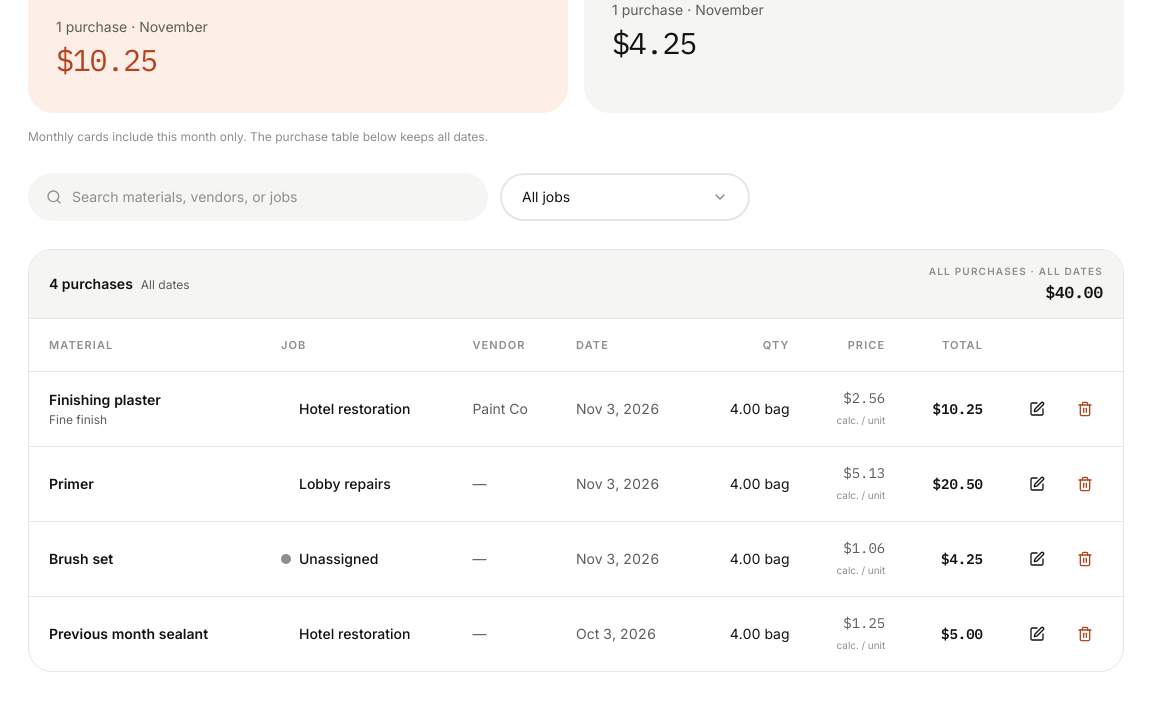
Test: Materials redesign › requires delete confirmation, supports cancel and leaves failed deletion recoverable
The width and height of the screenshot is (1152, 720).
(page scrolled)
Check: the row with test id "row-material-material-a" is shown, box x1=29 y1=371 x2=1123 y2=446
Click the button with test id "button-delete-material-material-a". click: (1085, 409)
box: x1=1063 y1=387 x2=1107 y2=431
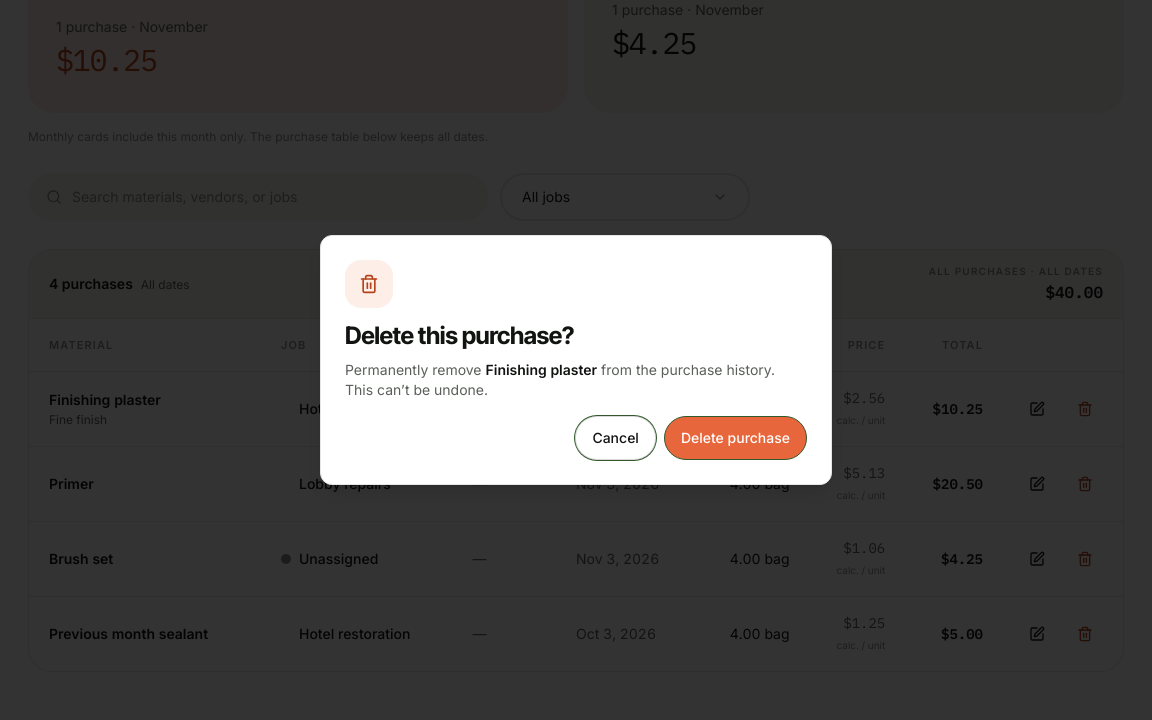
Click the button "Cancel". click: (616, 438)
box: x1=575 y1=416 x2=656 y2=460
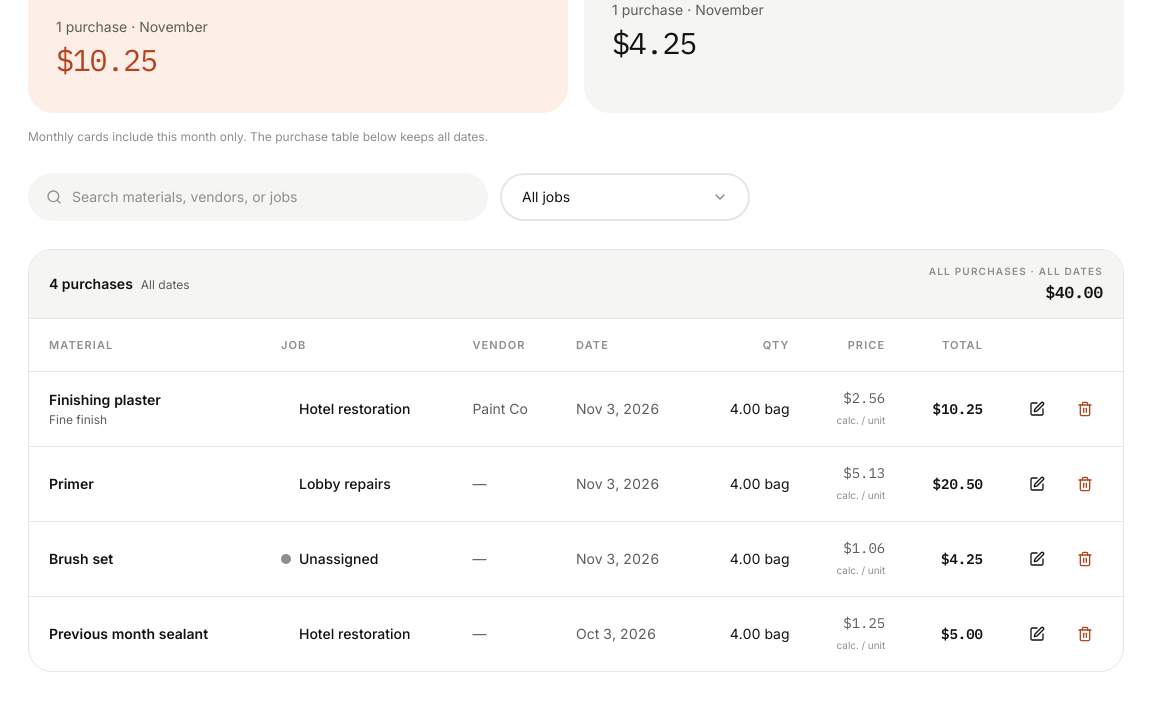
Check: the row with test id "row-material-material-a" is shown, box x1=29 y1=371 x2=1123 y2=446
Click the button with test id "button-delete-material-material-a". click: (1085, 409)
box: x1=1063 y1=387 x2=1107 y2=431
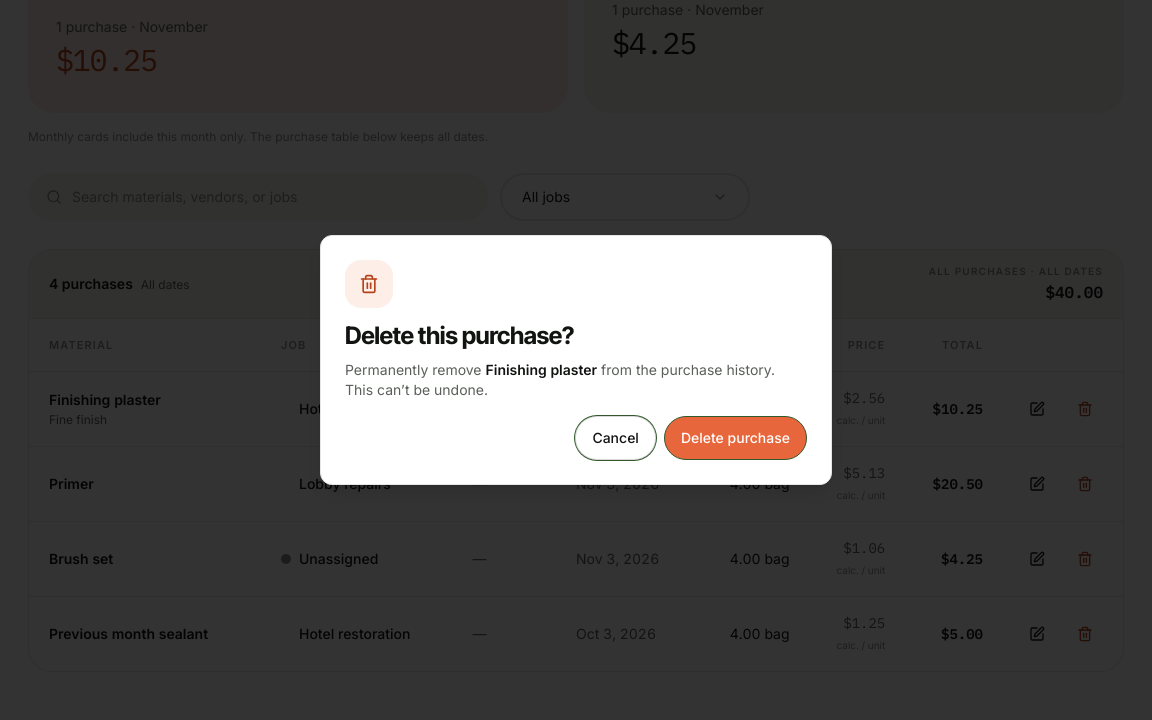
Click the button with test id "button-confirm-delete-material". click: (735, 438)
box: x1=664 y1=416 x2=807 y2=460
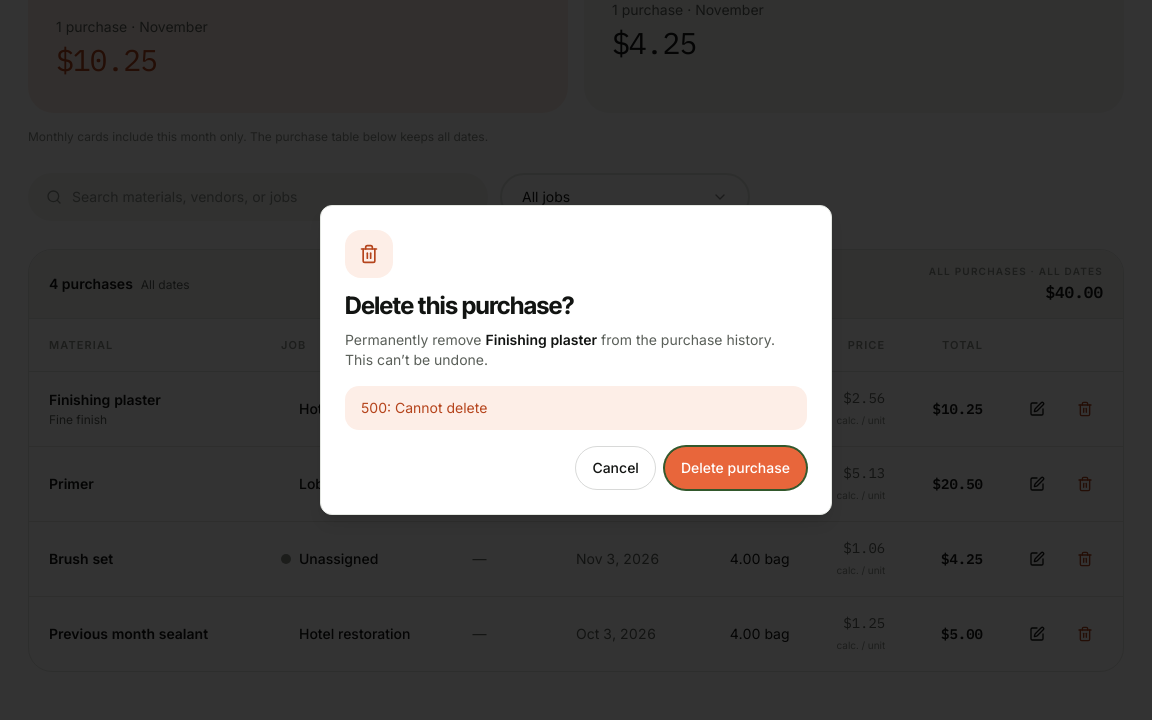
Check: the dialog is shown, box x1=320 y1=205 x2=832 y2=515
Click the button with test id "button-confirm-delete-material". click: (735, 468)
box: x1=664 y1=446 x2=807 y2=490
(page scrolled)
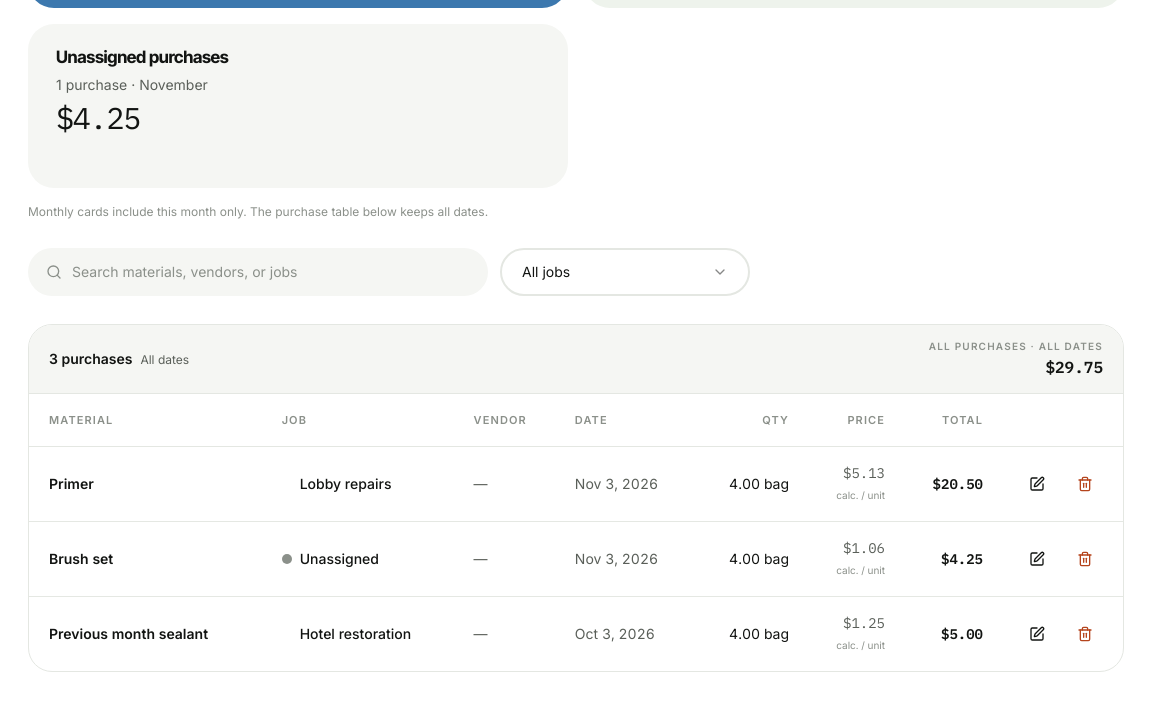
Check: the row with test id "row-material-material-a" is gone
Check: the text with test id "text-material-total" reads "$29.75", box x1=1045 y1=357 x2=1103 y2=377
